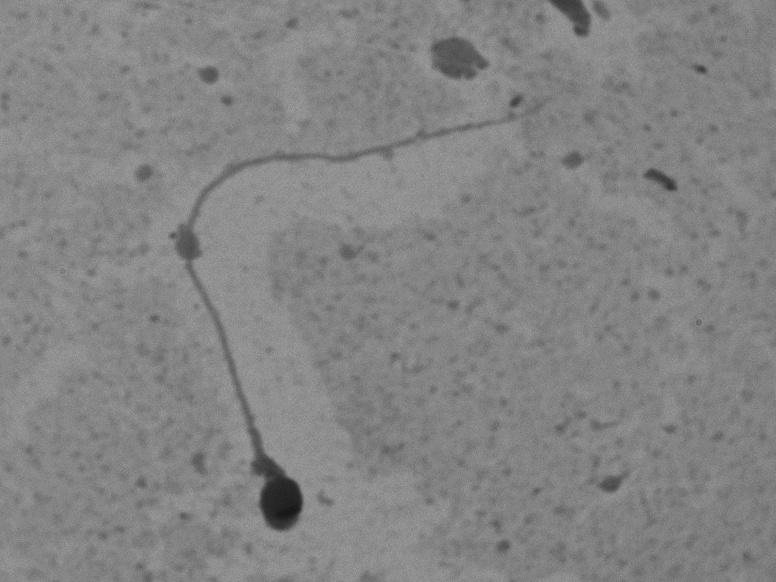Abnormal: (124, 79, 624, 542)
